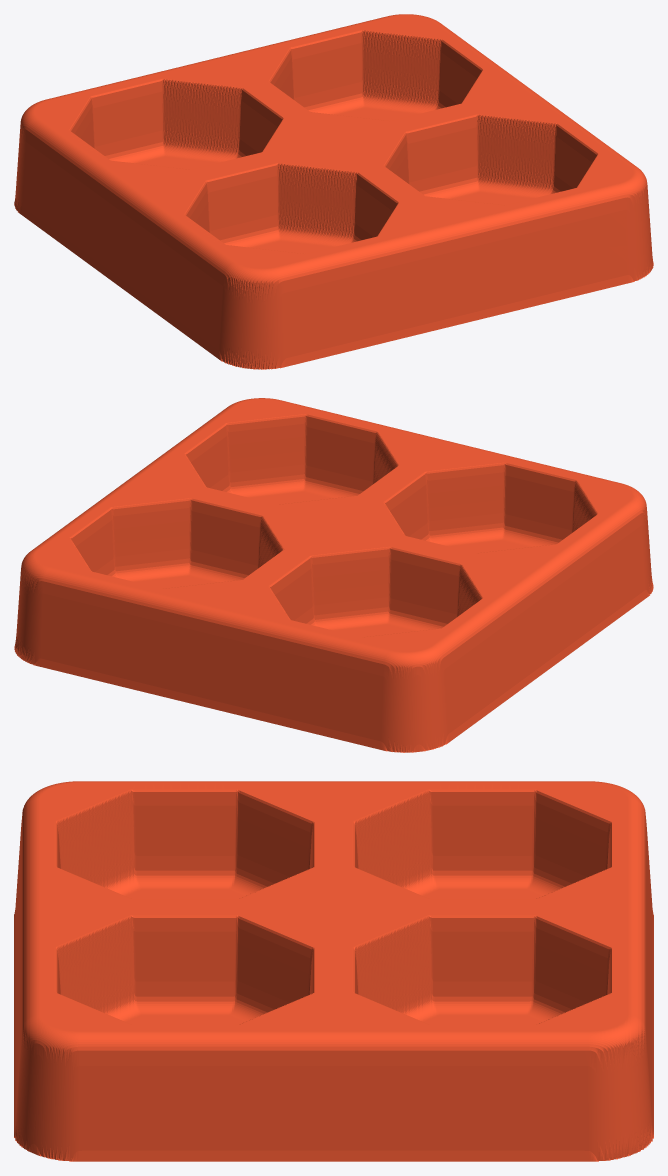
File: mold.glb
3 renders of one model, top to bottom at view 1: azimuth 30°, elevation 25°; view 2: azimuth 150°, elevation 25°; view 3: azimuth 270°, elevation 25°, orthographic. The views are drawn at different scales.
Parts seen in each view (by area): view 1: geometry_0; view 2: geometry_0; view 3: geometry_0.
Boxes of the visible parts, x1=… form: geometry_0: x1=14, y1=14, x2=653, y2=369; geometry_0: x1=14, y1=398, x2=653, y2=752; geometry_0: x1=14, y1=781, x2=653, y2=1161.
Size of the model in its own units: 0.0886 by 0.0182 by 0.0886.
